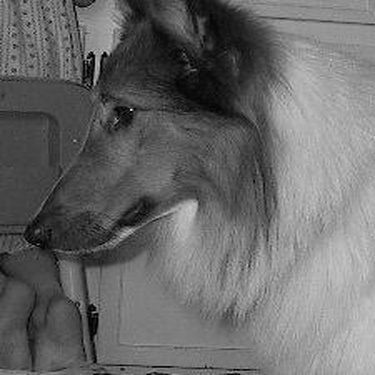dog: (3, 4, 370, 374), (1, 262, 85, 371)
